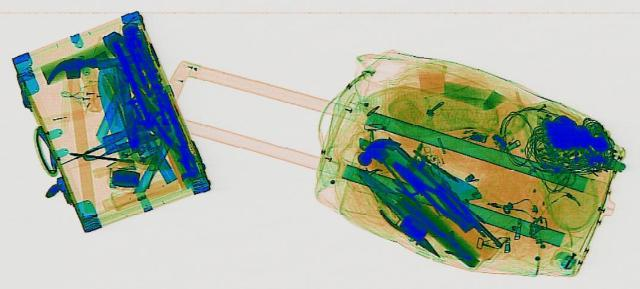Pliers: (373, 205, 451, 258)
